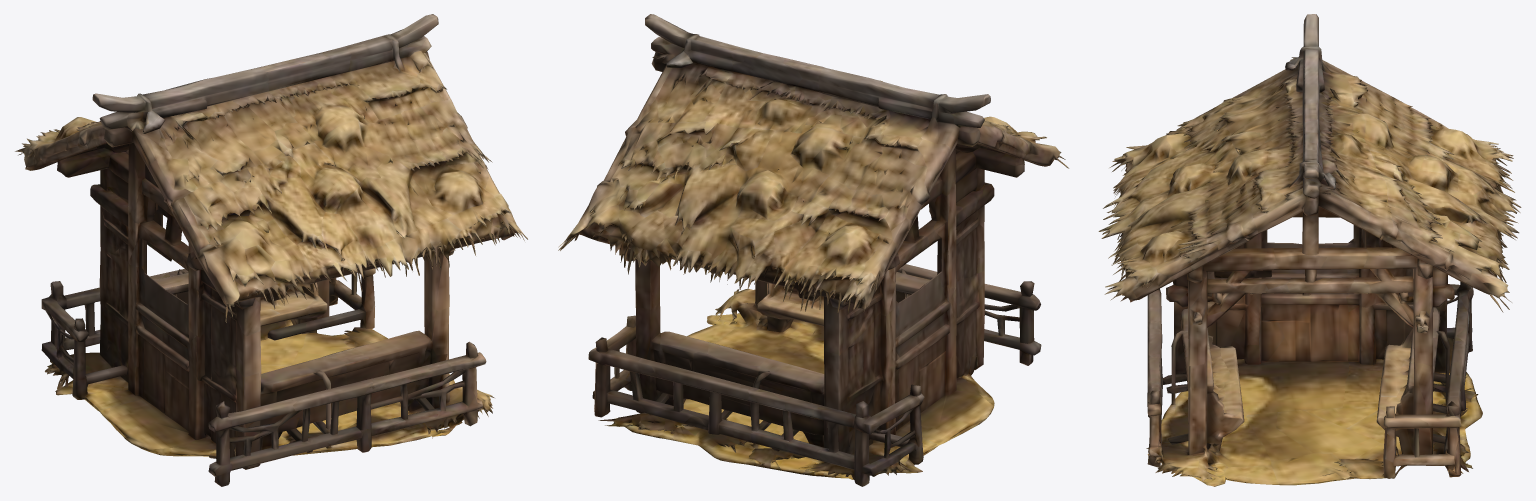
Rendered from stable-low.glb.
The picture shows the model from 3 angles, left to right: view 1: azimuth 30°, elevation 25°; view 2: azimuth 150°, elevation 25°; view 3: azimuth 270°, elevation 25°; orthographic projection. The views are drawn at different scales.
Bounding box in the file's own units: 0.8726 × 0.837 × 0.9991.
1 material, 1 textured.
